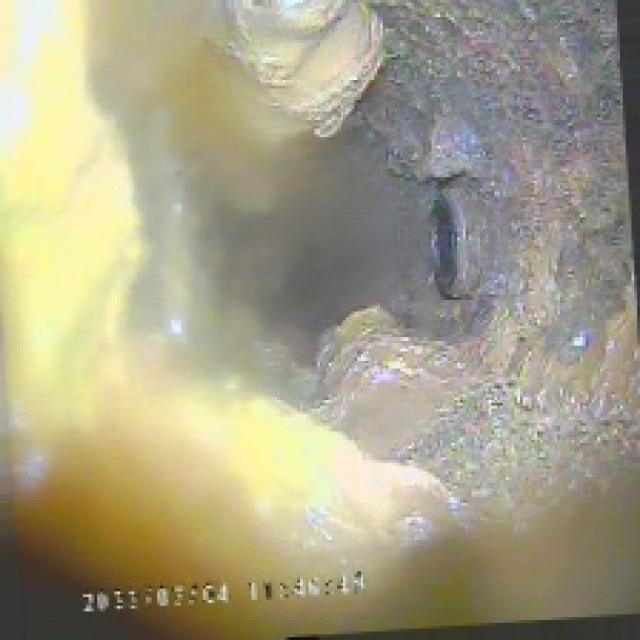encrustation: (277, 6, 597, 434)
ferrule: (420, 183, 486, 303)
